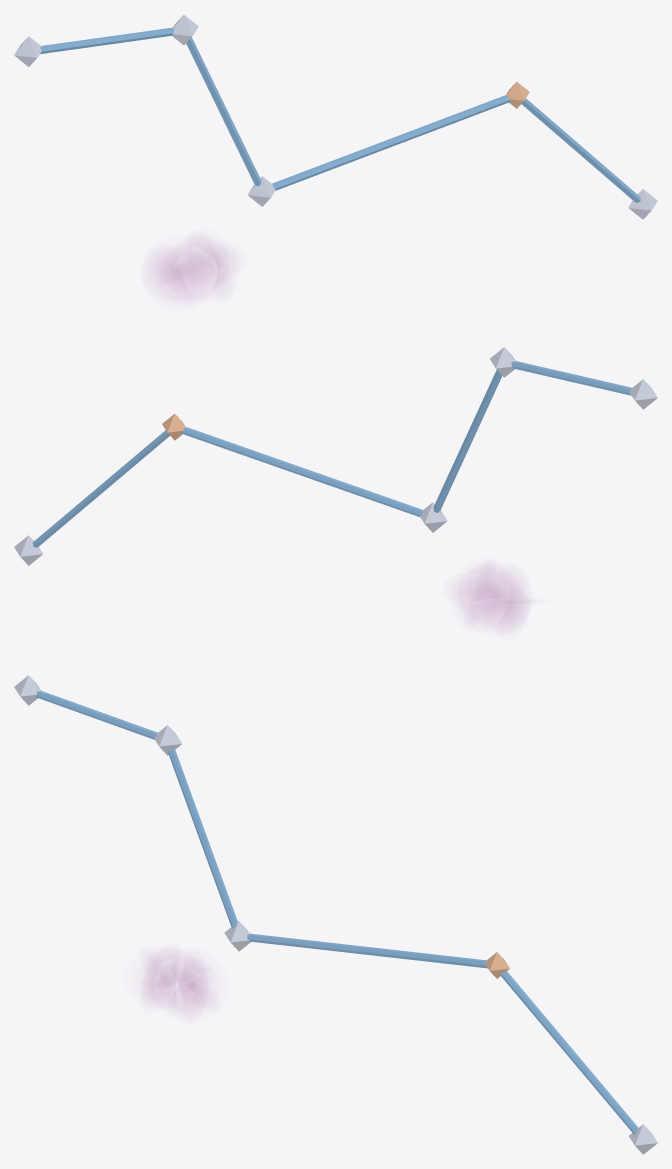
The model's file is constellation-vul.glb.
The picture shows the model from 3 angles, top to bottom: view 1: azimuth 30°, elevation 25°; view 2: azimuth 150°, elevation 25°; view 3: azimuth 330°, elevation 25°; orthographic projection.
Bounding box in the file's own units: 1.48 × 0.7365 × 0.1798.
